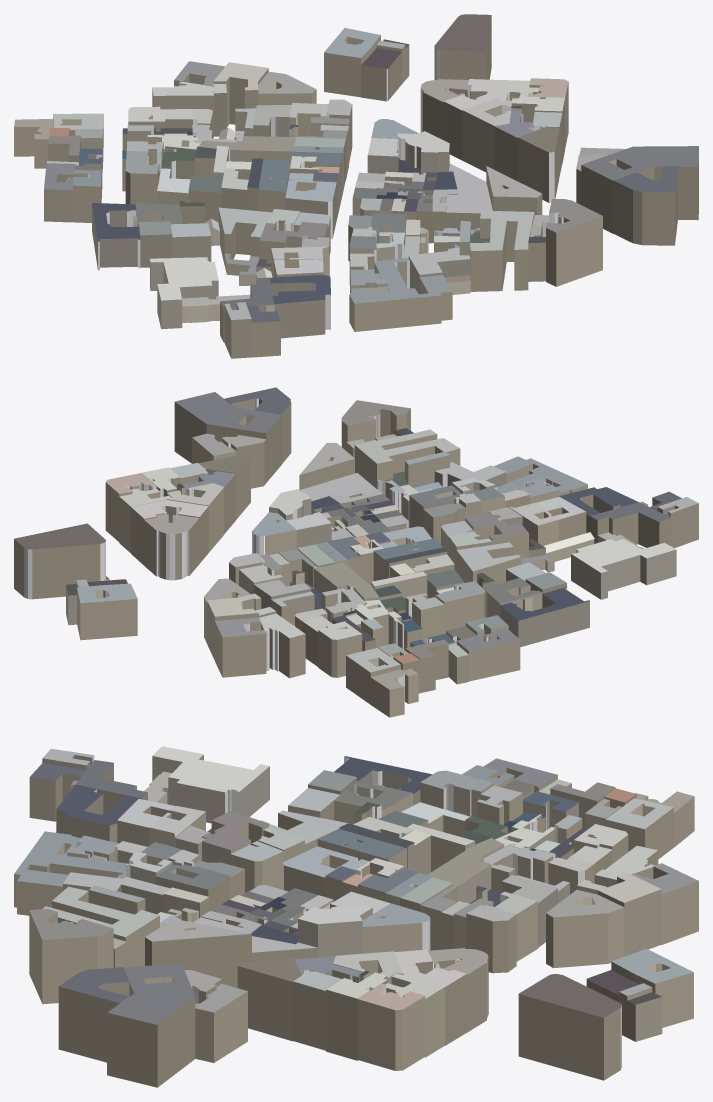
The picture shows the model from 3 angles, top to bottom: view 1: azimuth 30°, elevation 25°; view 2: azimuth 150°, elevation 25°; view 3: azimuth 270°, elevation 25°; orthographic projection. The views are drawn at different scales.
Parts seen in each view (by area): view 1: tuile; view 2: tuile; view 3: tuile.
Part boxes in pixels (left/top/right/bottom): tuile: left=14, top=14, right=698, bottom=358; tuile: left=14, top=387, right=698, bottom=717; tuile: left=14, top=746, right=698, bottom=1087.
Size of the model in its own units: 295 by 31.28 by 277.
